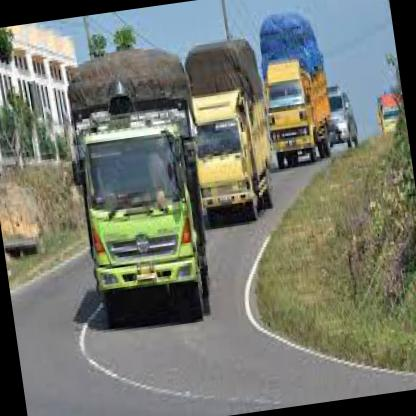truck: (77, 116, 213, 338), (186, 98, 263, 231), (262, 68, 323, 172)
